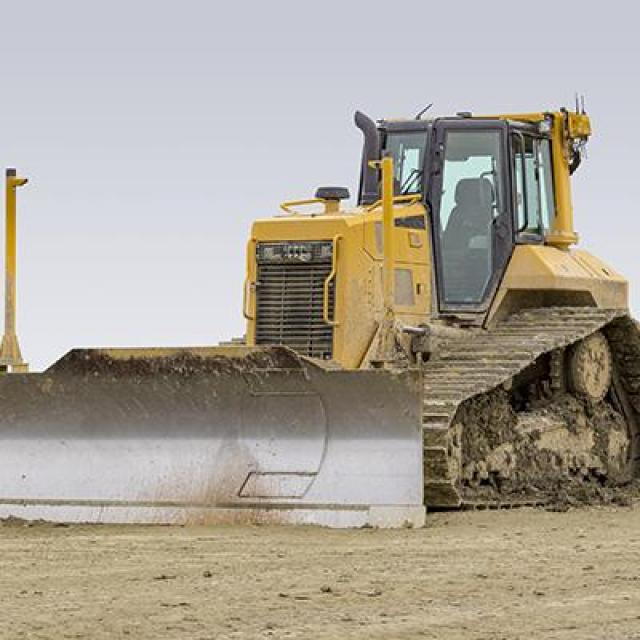Bulldozer: (0, 59, 638, 548)
